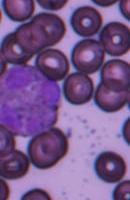E: (0, 66, 61, 136)
